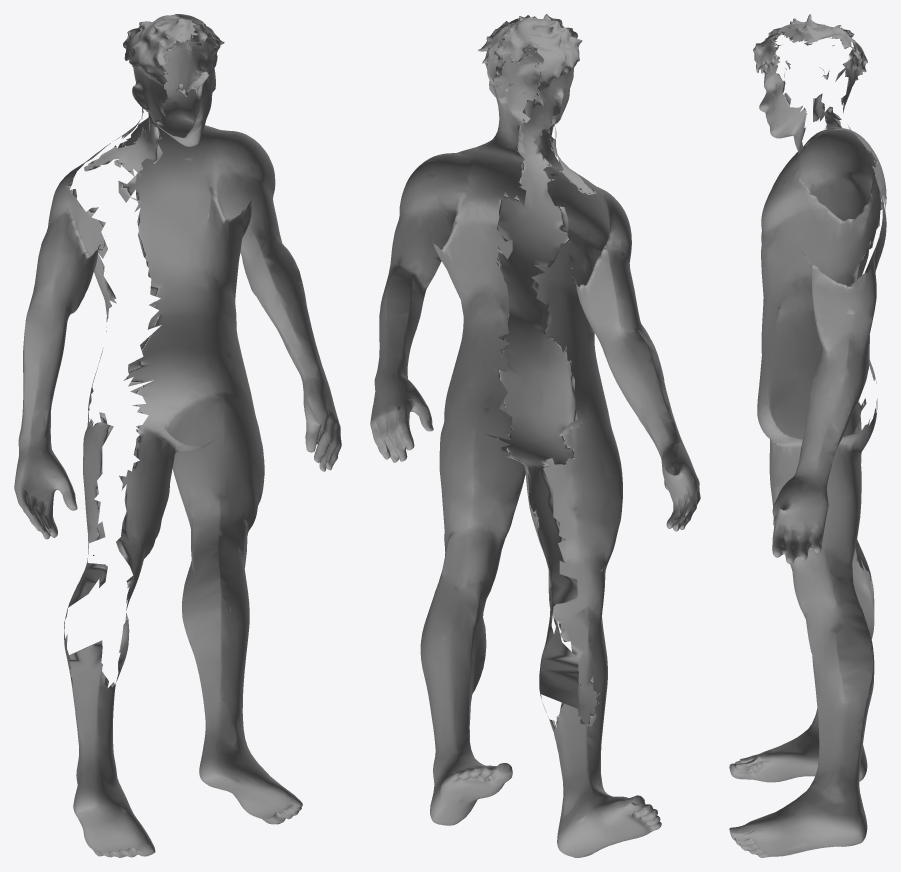
Rendered from STK_HERO_BaseBody_01_MeshyRigInput_NeutralWeldedTextured.glb.
The picture shows the model from 3 angles, left to right: view 1: azimuth 30°, elevation 25°; view 2: azimuth 150°, elevation 25°; view 3: azimuth 270°, elevation 25°; orthographic projection. The views are drawn at different scales.
Visible parts, largest first — view 1: STK_HERO_BaseBody_01_MeshyRigInput_NeutralWeldedTextured; view 2: STK_HERO_BaseBody_01_MeshyRigInput_NeutralWeldedTextured; view 3: STK_HERO_BaseBody_01_MeshyRigInput_NeutralWeldedTextured.
Boxes of the visible parts, left/top/right/bottom form: STK_HERO_BaseBody_01_MeshyRigInput_NeutralWeldedTextured: left=14, top=14, right=341, bottom=857; STK_HERO_BaseBody_01_MeshyRigInput_NeutralWeldedTextured: left=370, top=14, right=700, bottom=857; STK_HERO_BaseBody_01_MeshyRigInput_NeutralWeldedTextured: left=729, top=14, right=886, bottom=857.
Size of the model in its own units: 0.751 by 1.83 by 0.3304.
1 material, 1 textured.
